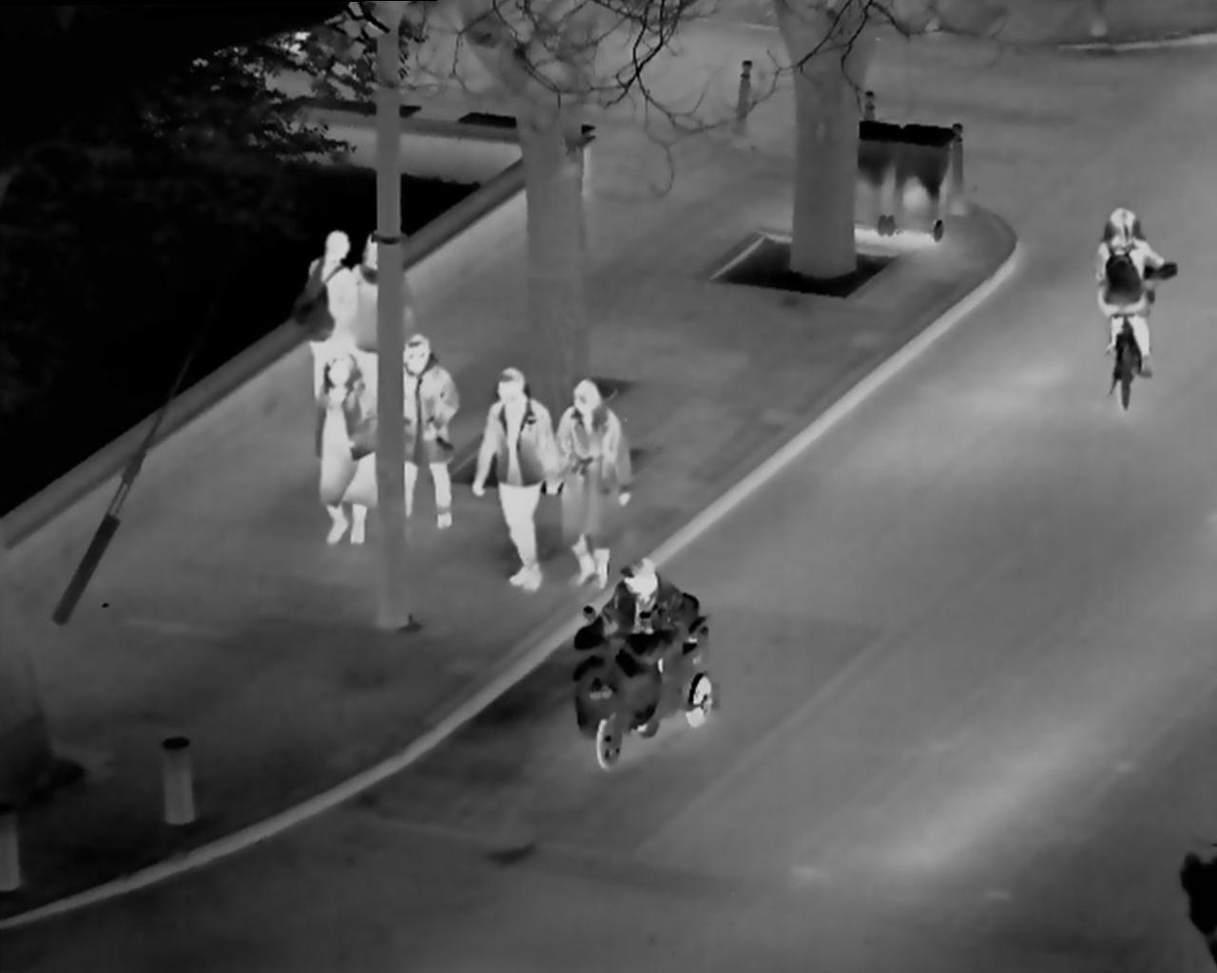person: (582, 549, 713, 757), (475, 363, 559, 600), (1086, 188, 1175, 404), (299, 343, 388, 534), (552, 376, 628, 592), (392, 329, 466, 535), (301, 212, 346, 402), (339, 223, 385, 407)
